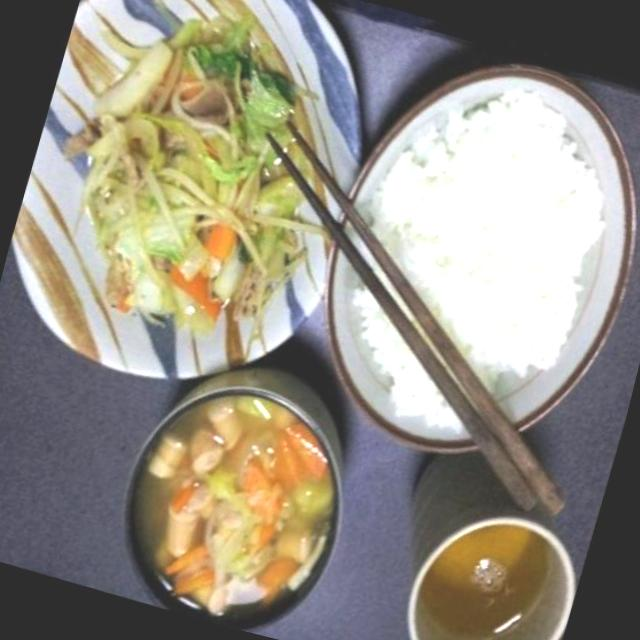Rice: (314, 70, 640, 468)
